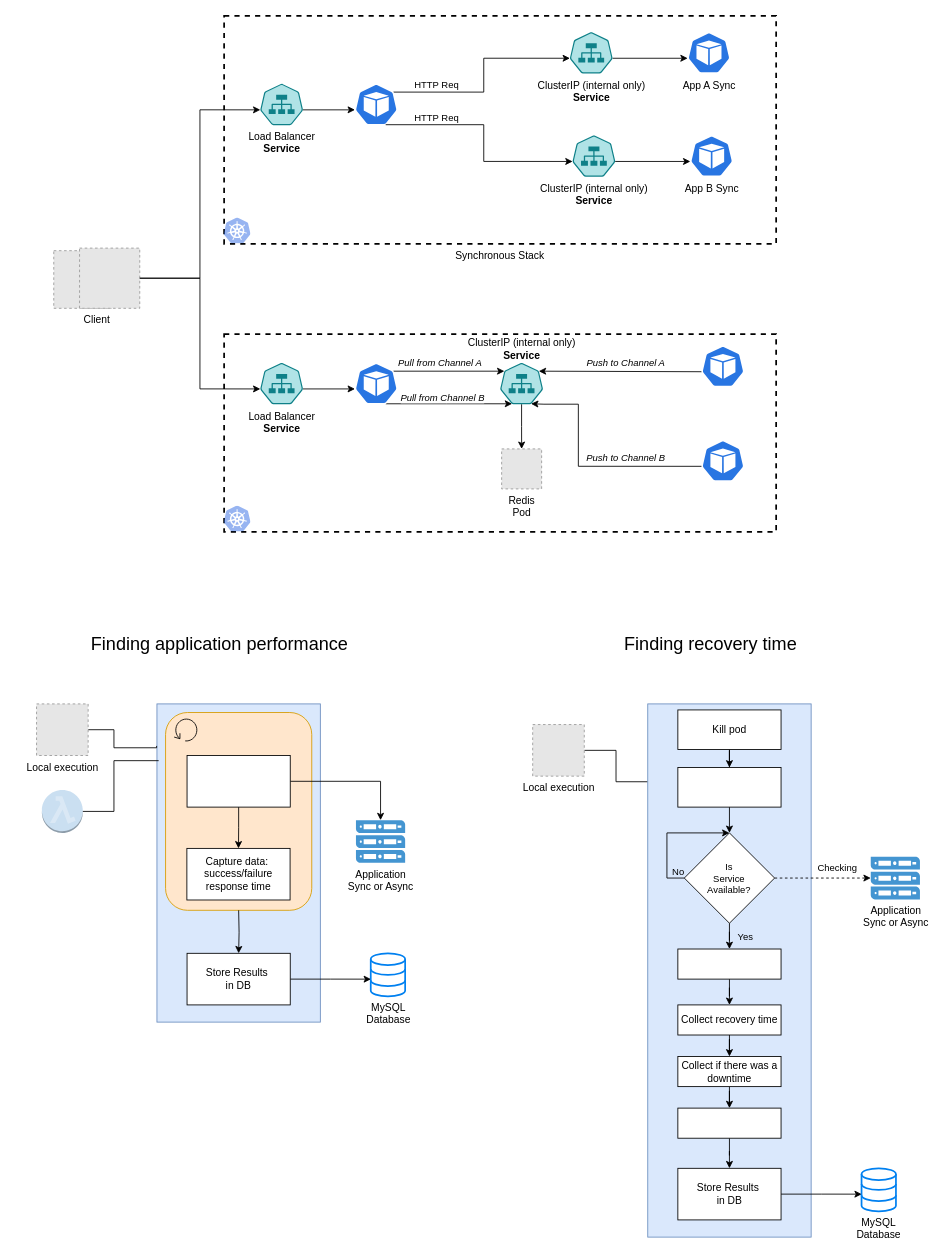
Some shapes in this 943 by 1256 pixel diagram are drawn without their labels. Grey dashed boxes stand in for pictures. Here are the shapes that lost their labels. From the top down, the box of each, then its label:
(354, 83, 398, 125): App G Sync Pods
(354, 362, 398, 404): App G Async Pods
(701, 345, 744, 387): App A Async
(223, 333, 777, 532): Asynchronous Stack
(701, 439, 744, 482): App B Async
(173, 717, 198, 741): Loop
(186, 755, 290, 807): Perform request to application
(677, 767, 781, 807): Start Timer
(41, 789, 83, 833): GCP Cloud Function
(677, 948, 781, 979): Stop Timer
(677, 1107, 781, 1138): Collect Startup time from Kubernetes
